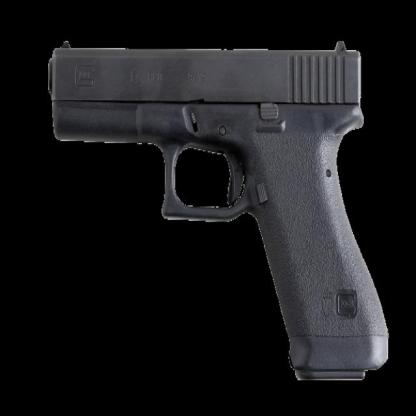handgun: (39, 26, 395, 391)
